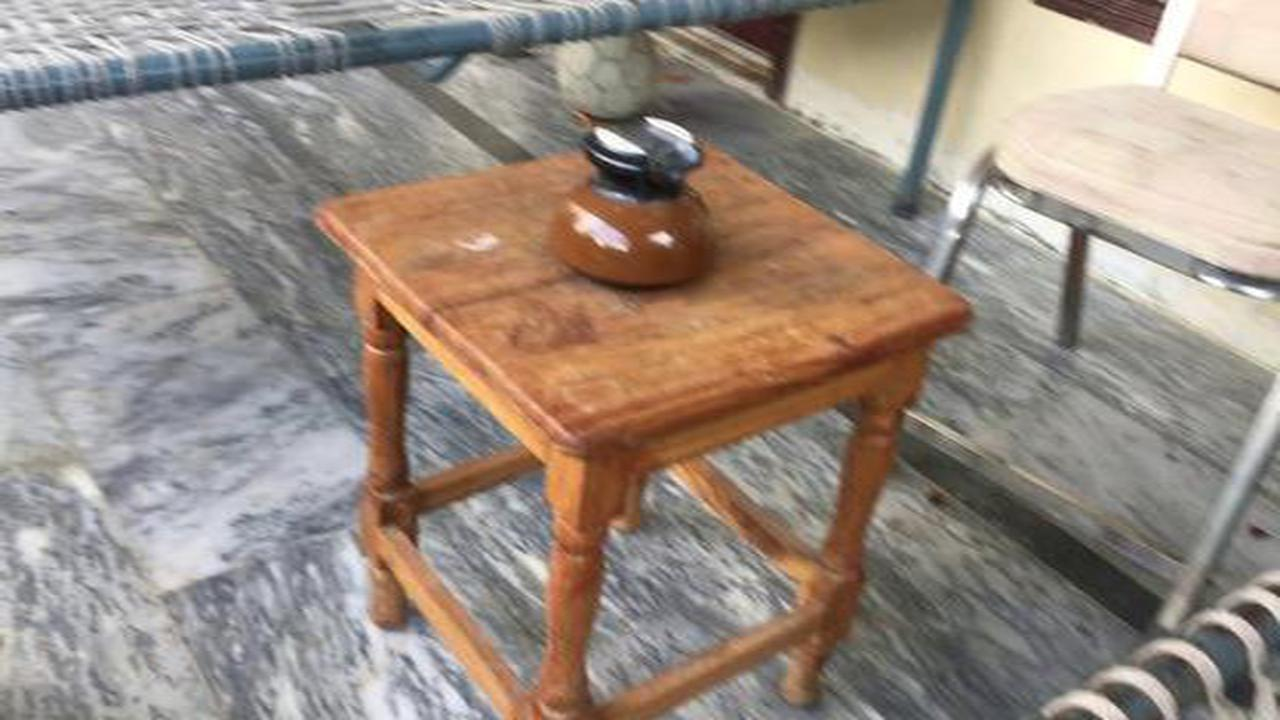insulator_pin: (533, 102, 742, 300)
